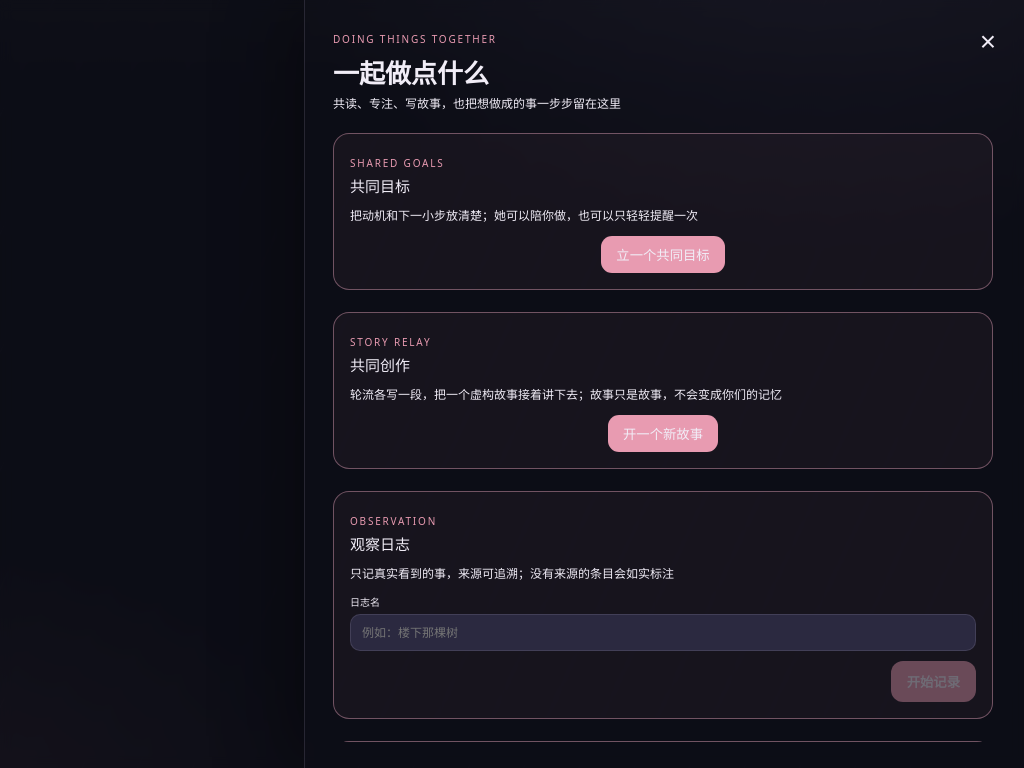
ActivityPanel › creates a shared goal with an explicit next small step
Click the button with class "open-bookshelf" showing "立一个共同目标" at (663, 254), box top-left (601, 236), bottom-right (725, 273)
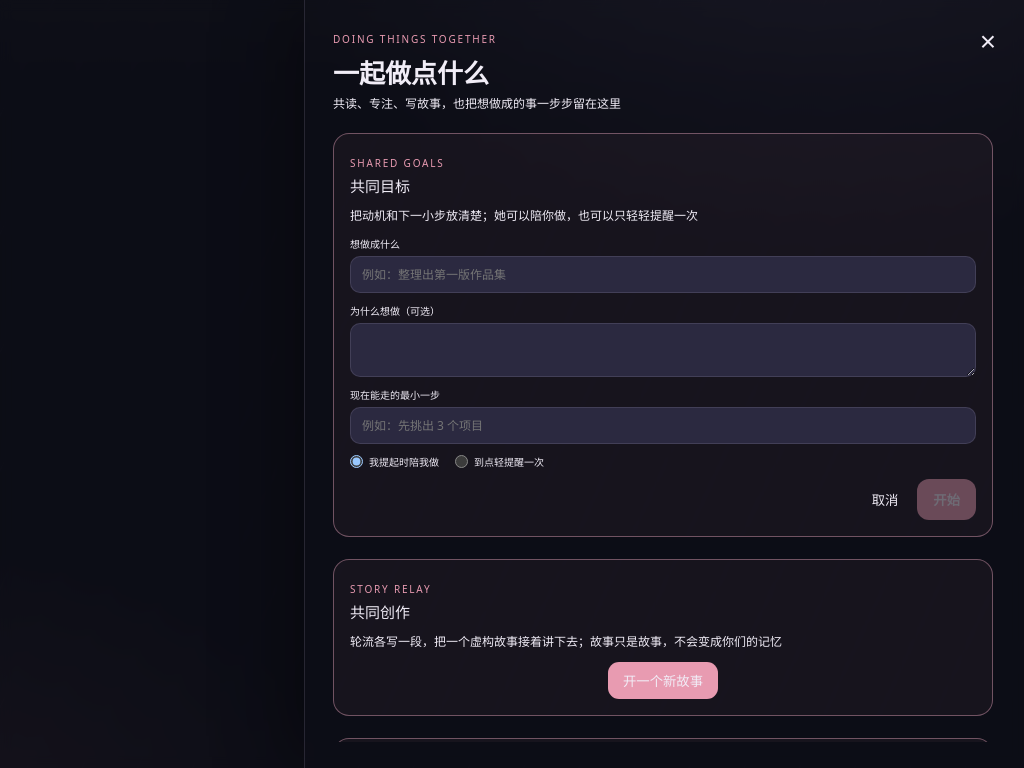
Type "整理作品集" into the field labelled "想做成什么" at (663, 274), box top-left (350, 256), bottom-right (976, 293)
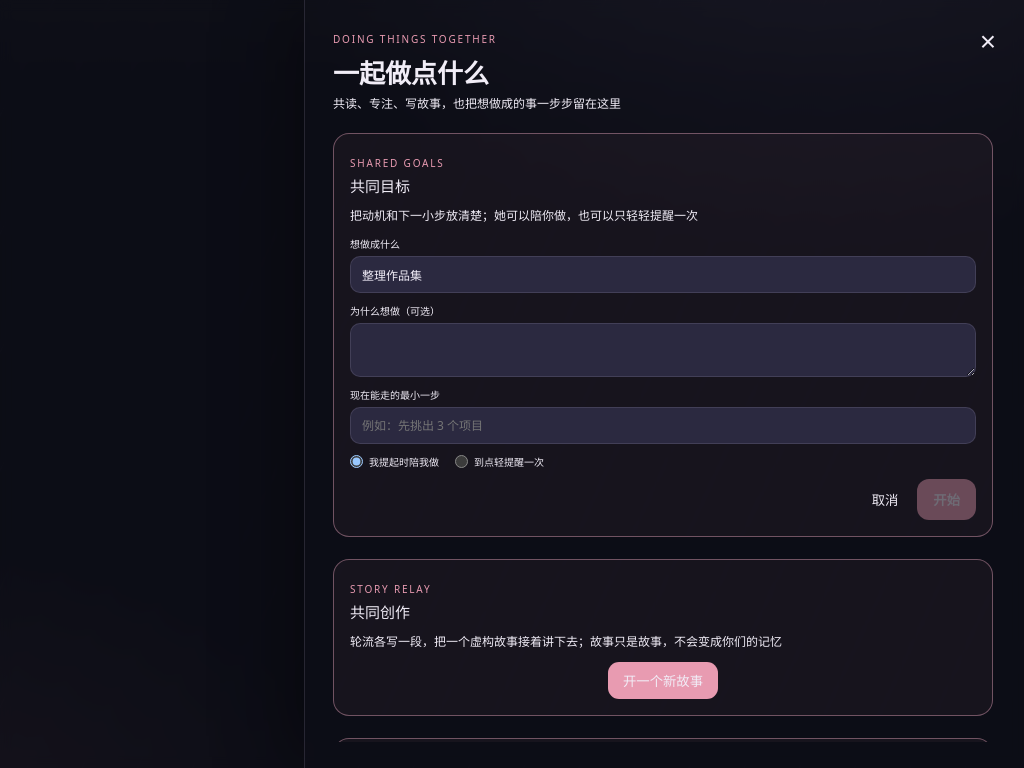
Type "想把做过的事讲清楚" into the text box labelled "为什么想做（可选）" at (663, 350), box top-left (350, 323), bottom-right (976, 377)
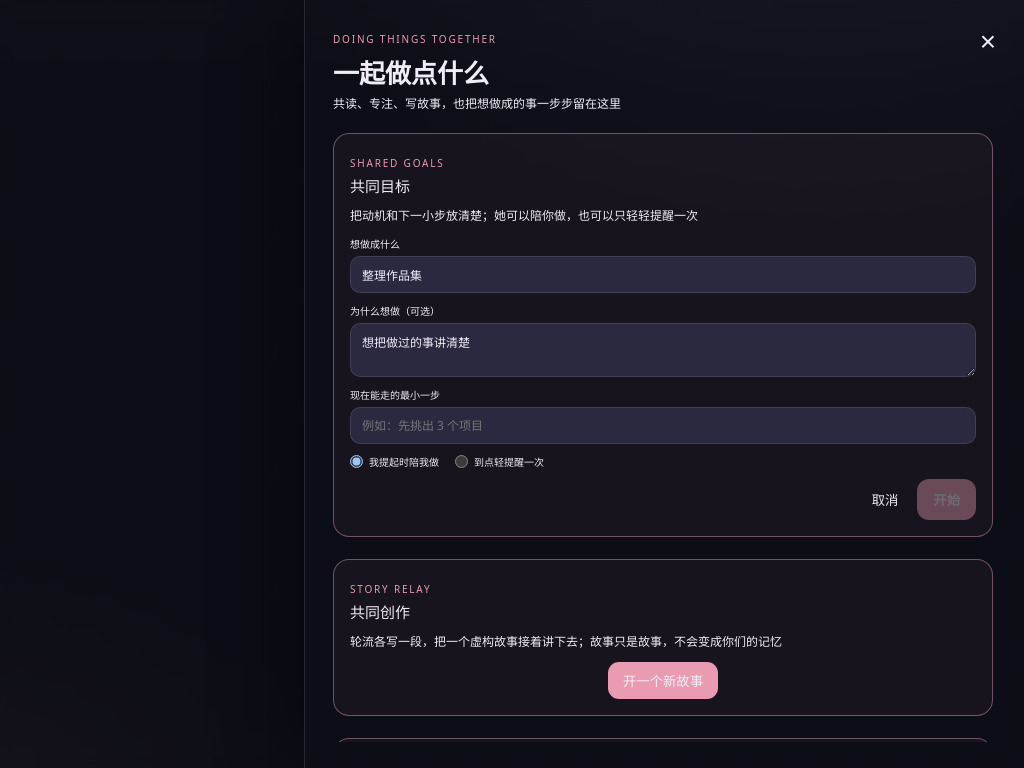
Type "先挑三个项目" into the field labelled "现在能走的最小一步" at (663, 426), box top-left (350, 407), bottom-right (976, 444)
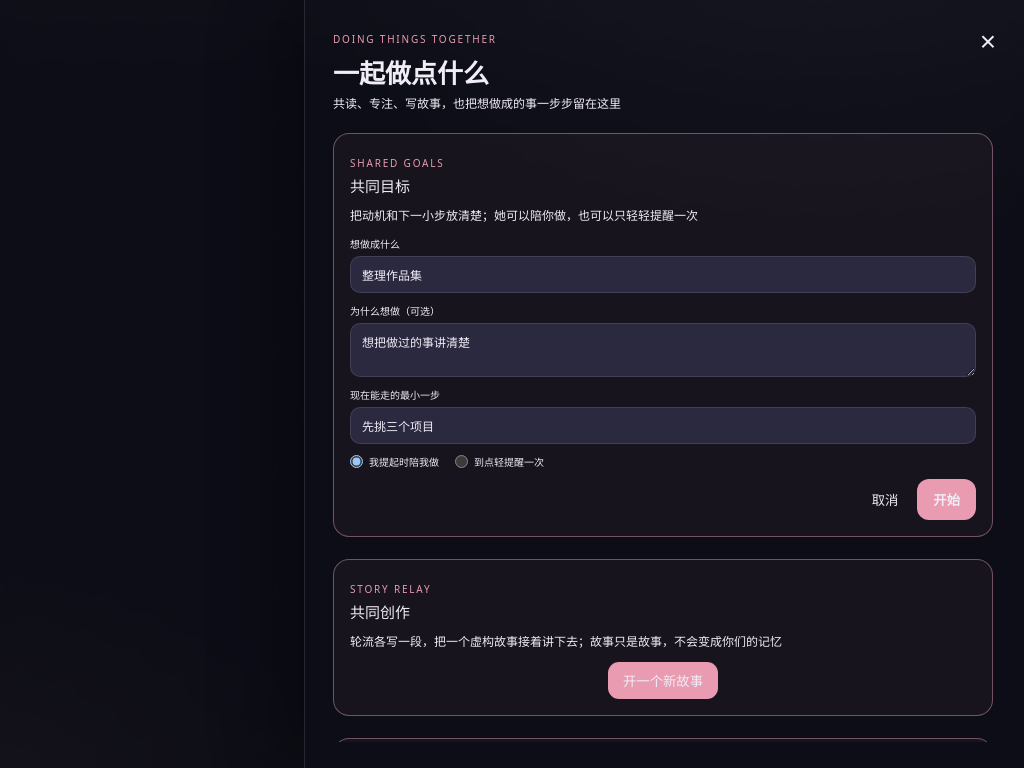
Click the button with class "talk" at (947, 500), box top-left (917, 479), bottom-right (976, 520)
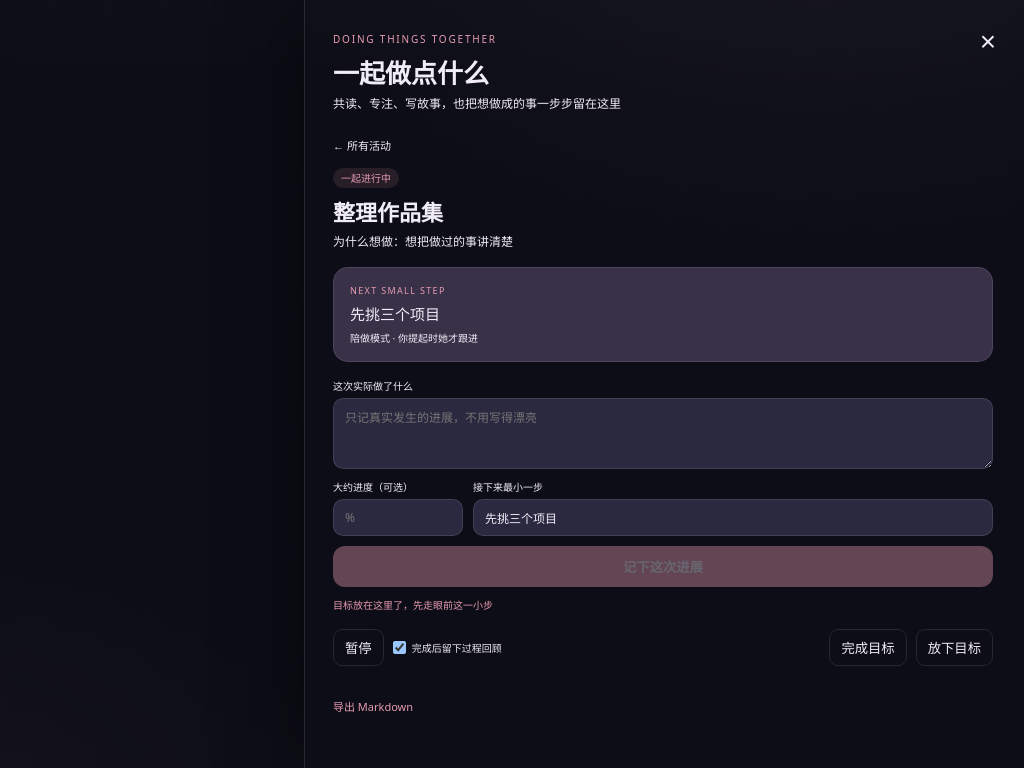
Check: the text "NEXT SMALL STEP" is shown, box top-left (350, 284), bottom-right (446, 297)
